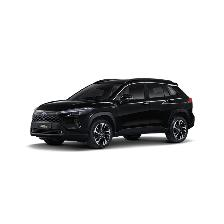NON-EV: (31, 79, 197, 150)
